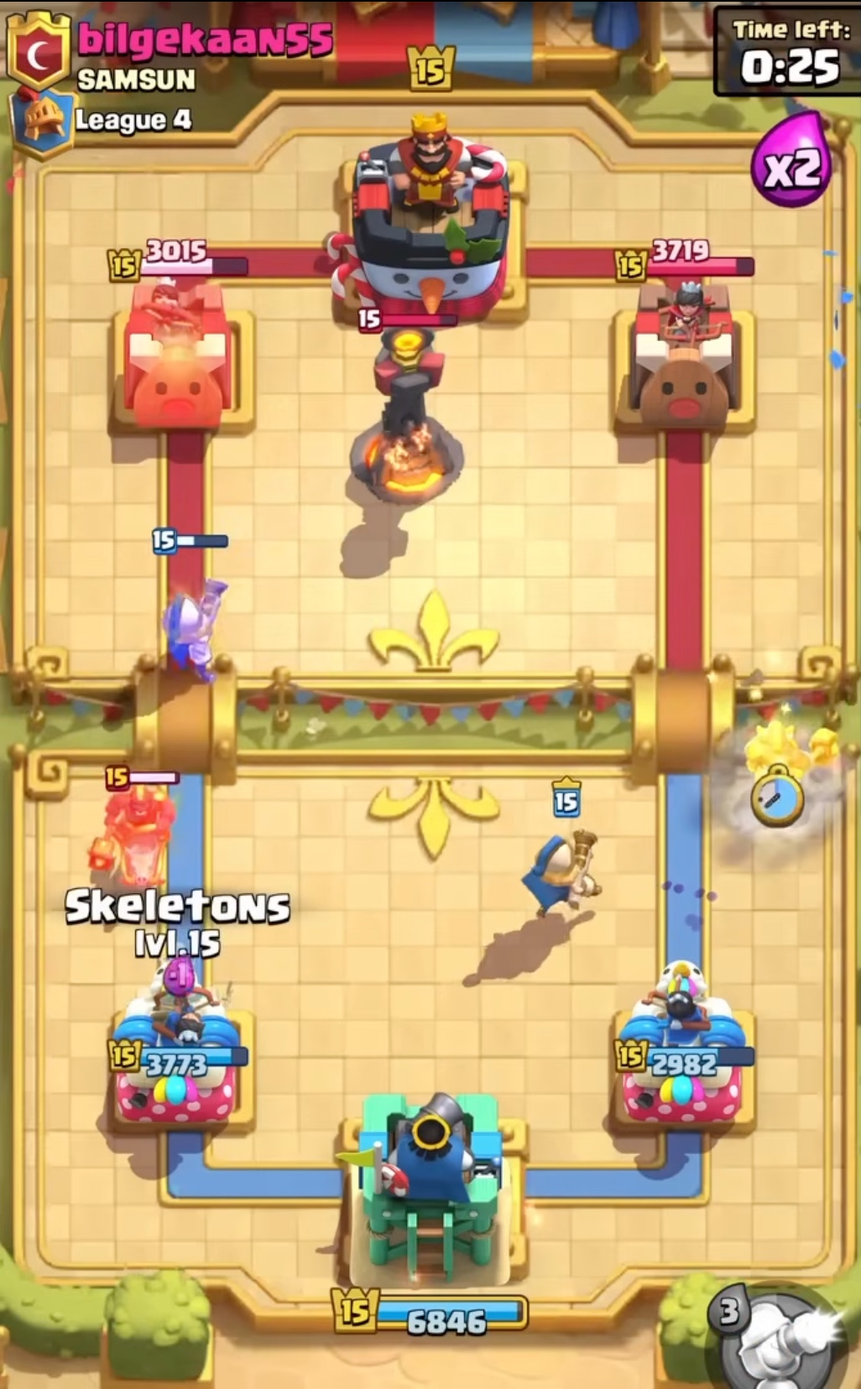hero-musketeer: (144, 523, 237, 698), (521, 771, 611, 929)
hog-rider: (735, 713, 845, 836)
